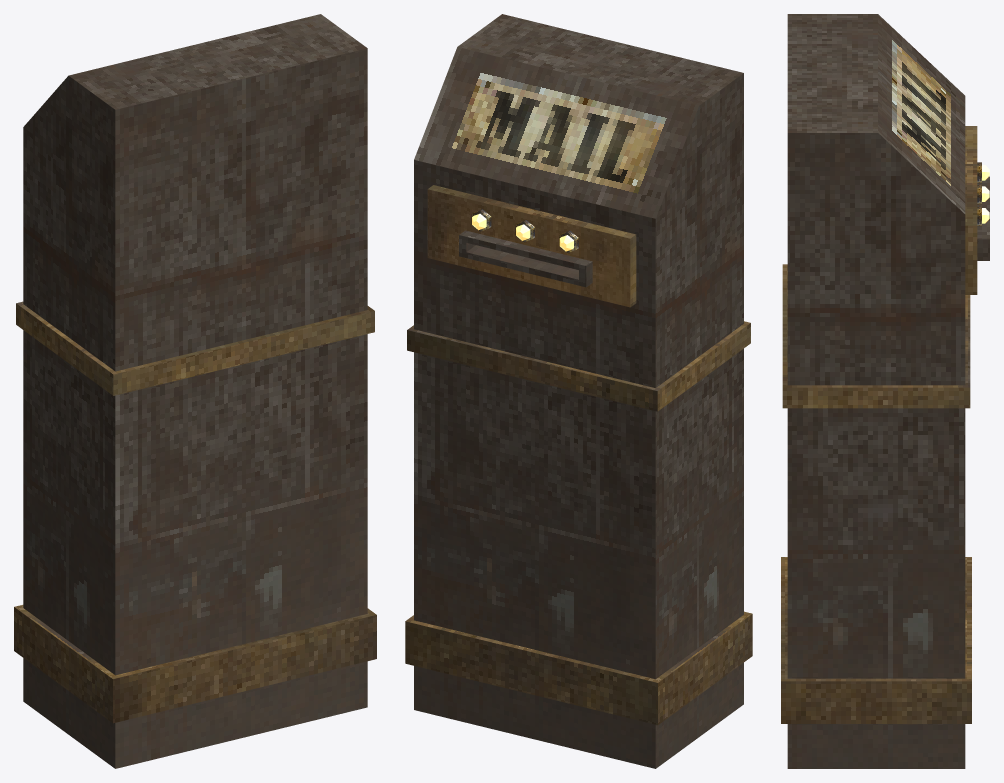
Rendered from mailbox.glb.
The picture shows the model from 3 angles, left to right: view 1: azimuth 30°, elevation 25°; view 2: azimuth 150°, elevation 25°; view 3: azimuth 270°, elevation 25°; orthographic projection. The views are drawn at different scales.
Visible parts, largest first — view 1: Cube.006; view 2: Cube.006; view 3: Cube.006.
Boxes of the visible parts, box(x1,y1,x2,y2) form: Cube.006: box(14, 14, 376, 768); Cube.006: box(405, 14, 752, 768); Cube.006: box(781, 14, 989, 768).
Size of the model in its own units: 0.5054 by 1.21 by 0.3588.
3 materials, 2 textured.
